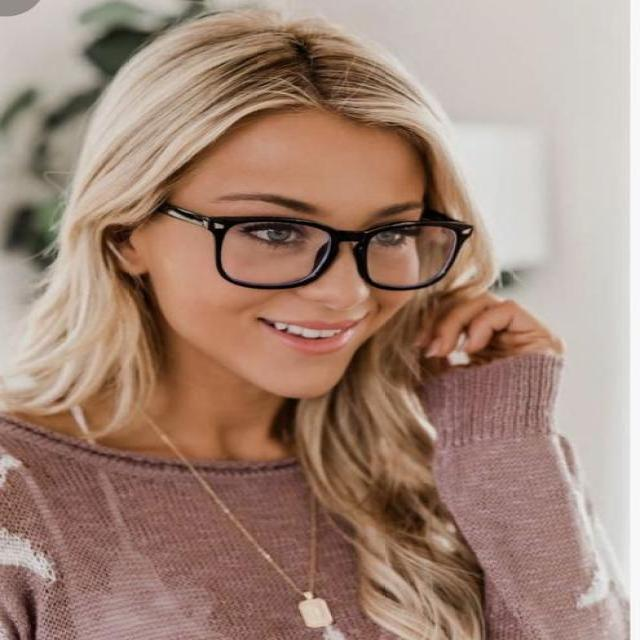glasses: (156, 202, 475, 292)
